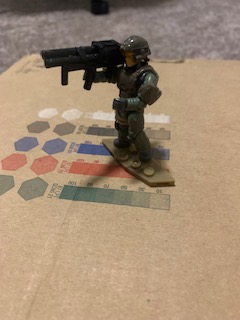soldier: (33, 32, 169, 167)
